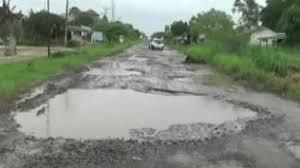Pothole: (16, 80, 278, 146), (81, 44, 154, 80), (201, 145, 259, 168), (167, 58, 202, 85), (283, 135, 300, 157)
